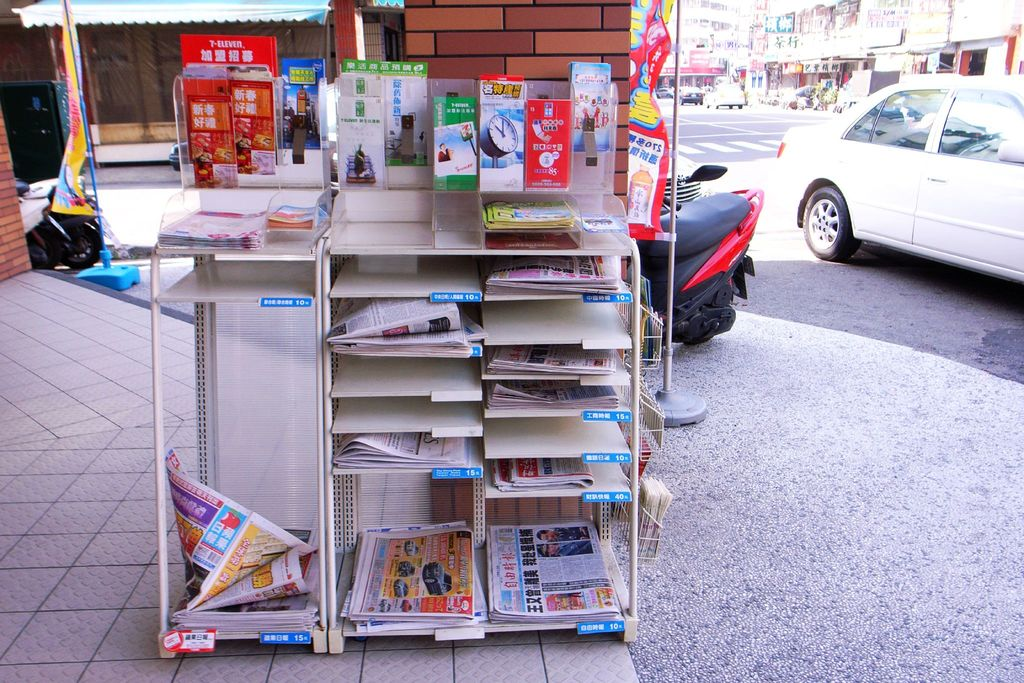Car: (789, 66, 1019, 291), (709, 84, 743, 109), (675, 83, 702, 105), (170, 141, 190, 170), (657, 89, 671, 96)
